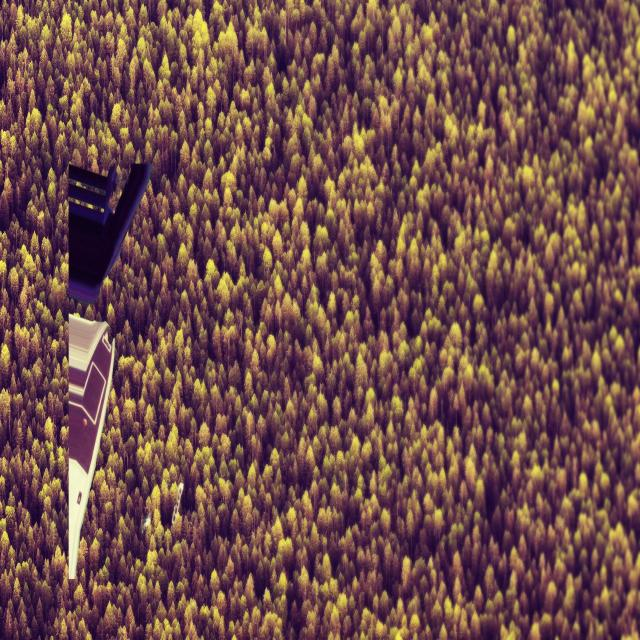airplane: (65, 158, 151, 582)
